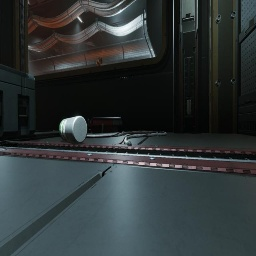0: (59, 116, 87, 143)
NitrogenTank ,: (87, 117, 122, 134)
